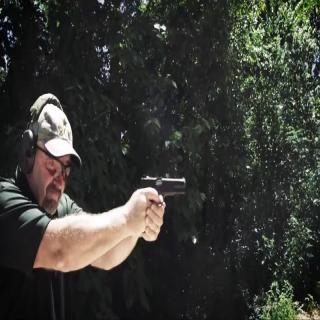gun: (137, 163, 188, 245)
